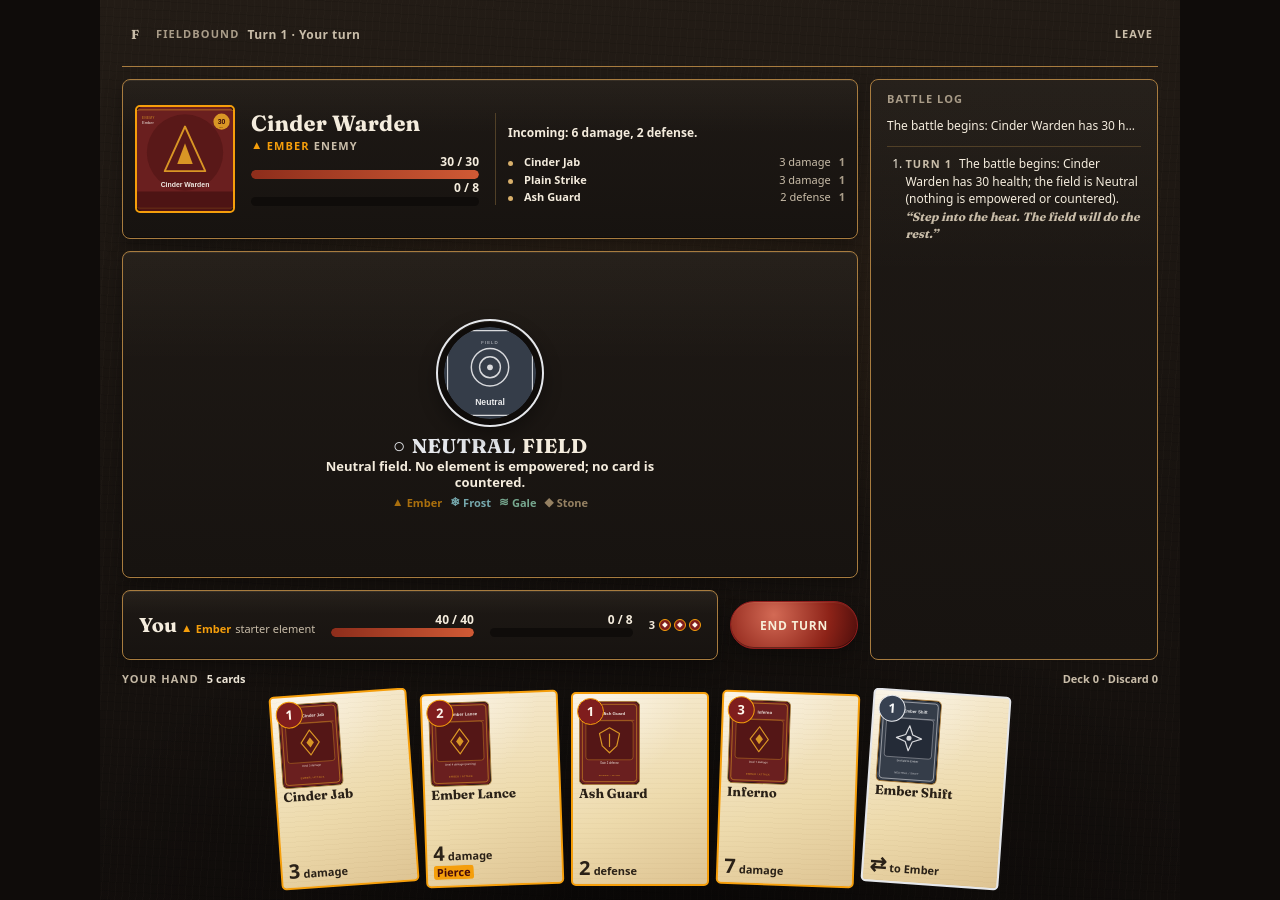
it: App battle screen › opens an unaffordable card for inspection but cannot play it
This screenshot has width=1280, height=900.
Click the button "2 Ember Lance 4 damage Pierce": [492, 789] box x1=420 y1=689 x2=564 y2=888
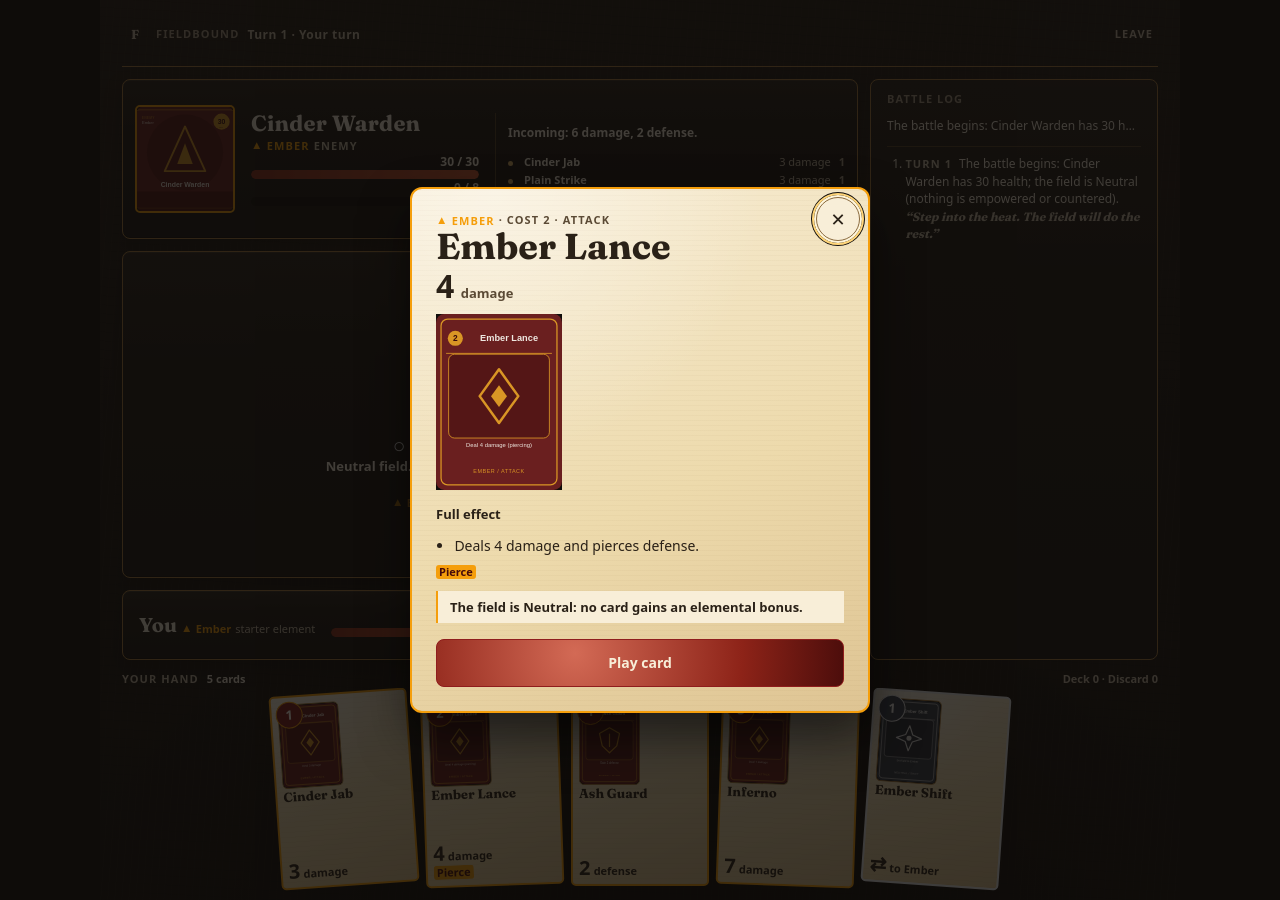
Click the button "Play card": [640, 663] box x1=436 y1=639 x2=844 y2=687
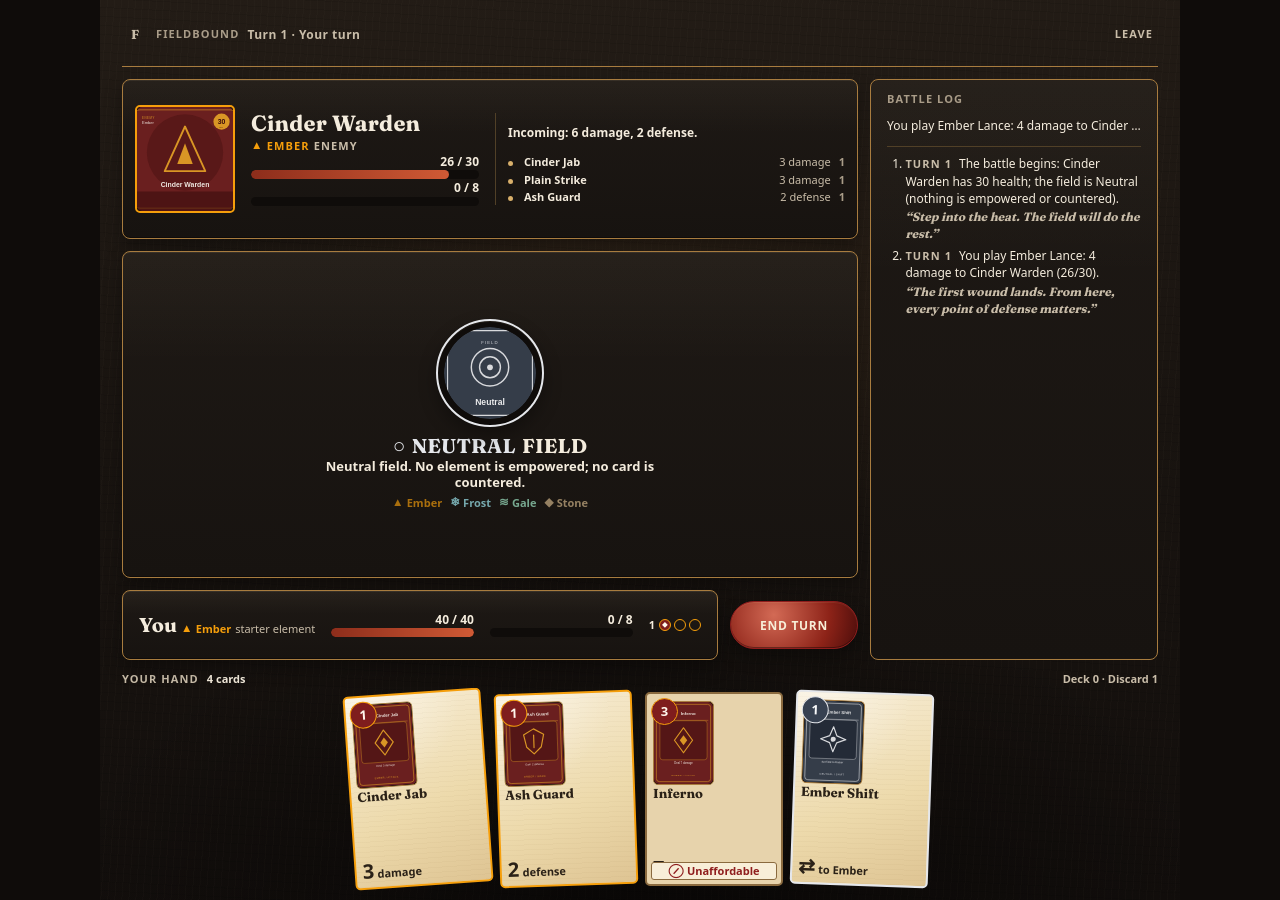
Expected: the button "3 Inferno 7 damage ⊘ Unaffordable" is shown
Click the button "3 Inferno 7 damage ⊘ Unaffordable": [714, 789] box x1=645 y1=692 x2=783 y2=886
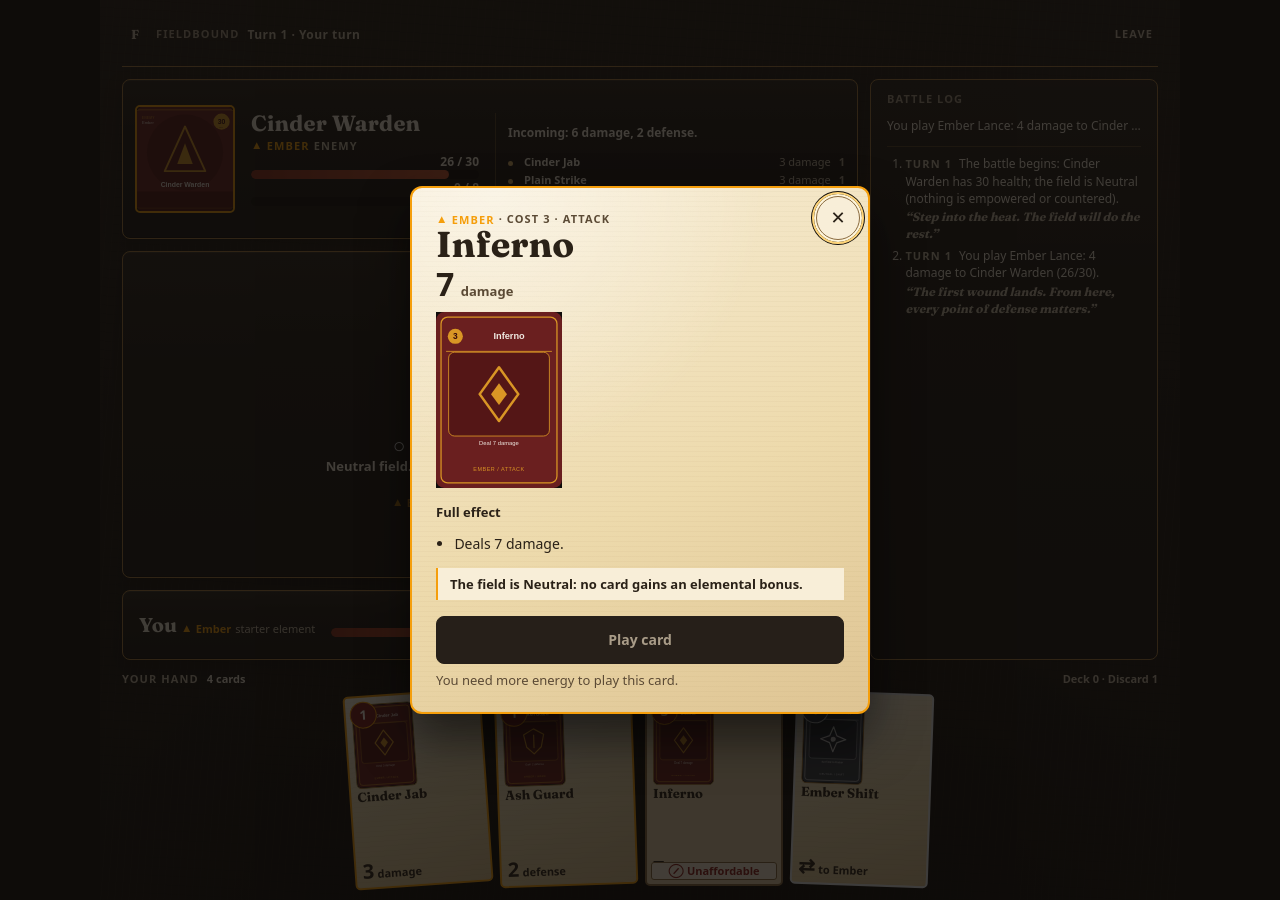
Expected: the button "Play card" is disabled, x1=436 y1=616 x2=844 y2=664
Click the button named "Close card detail": [838, 218] box x1=816 y1=196 x2=860 y2=240
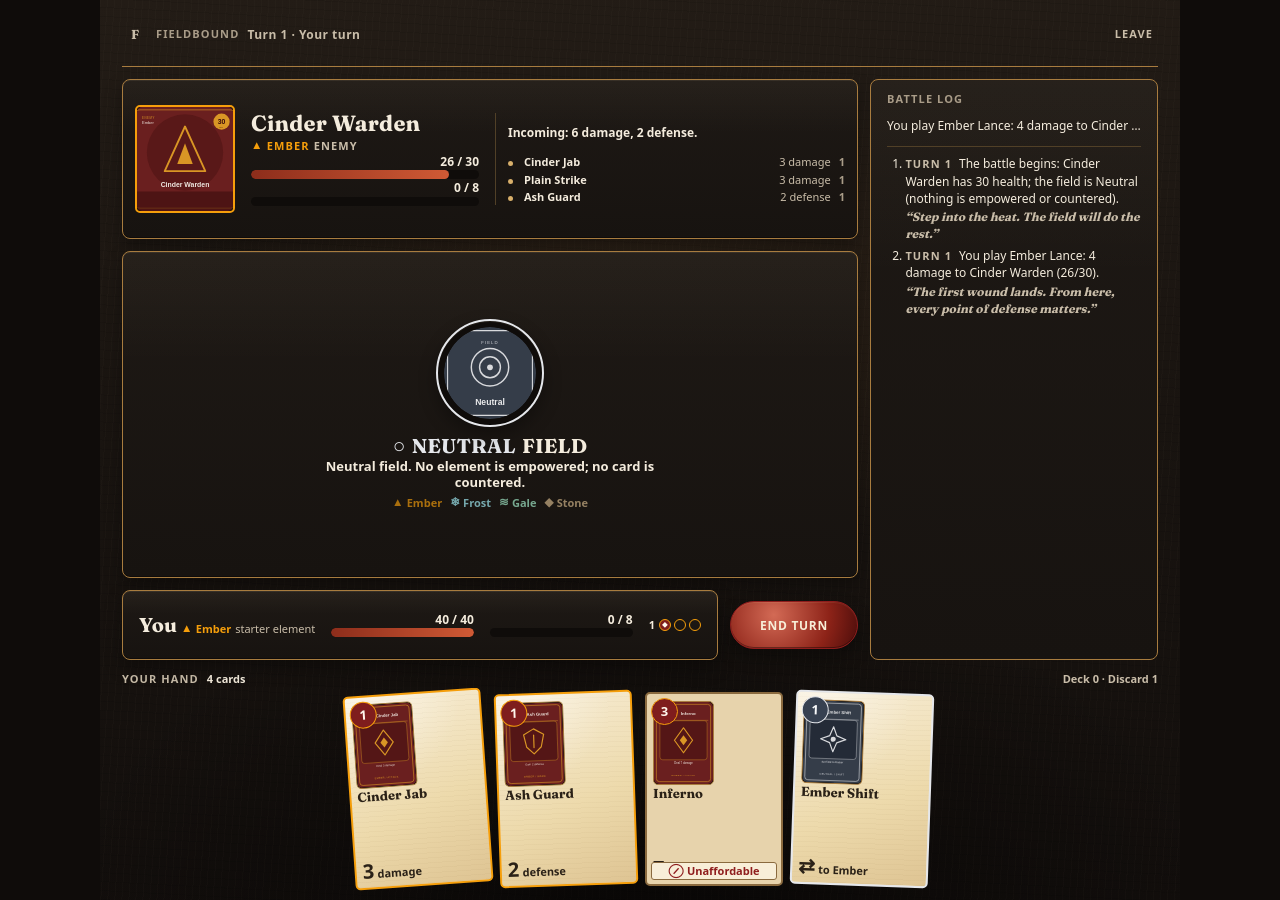
Expected: the dialog is gone
